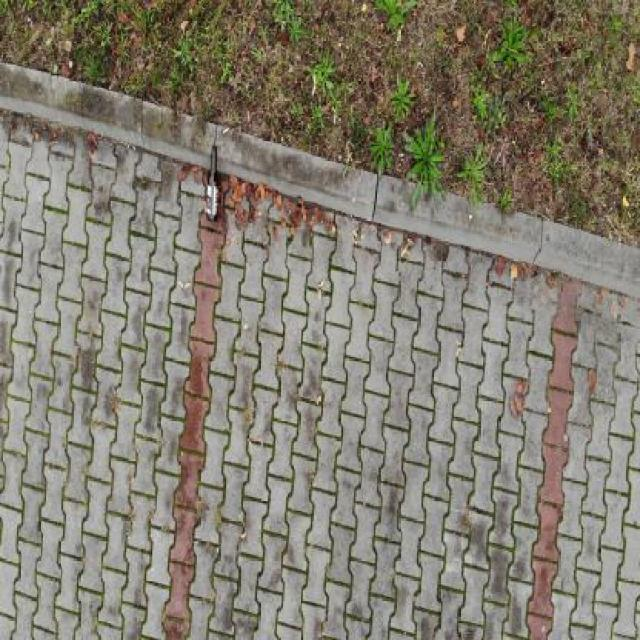Garbage: (205, 144, 221, 222)
